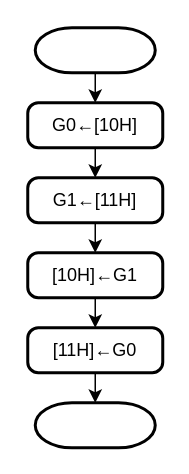
Image size: 189x474. Some labels were removed from this diagram. Each missing label, with the centre of its shape:
"END" belongs at point 94,424.
"START" belongs at point 94,50.
